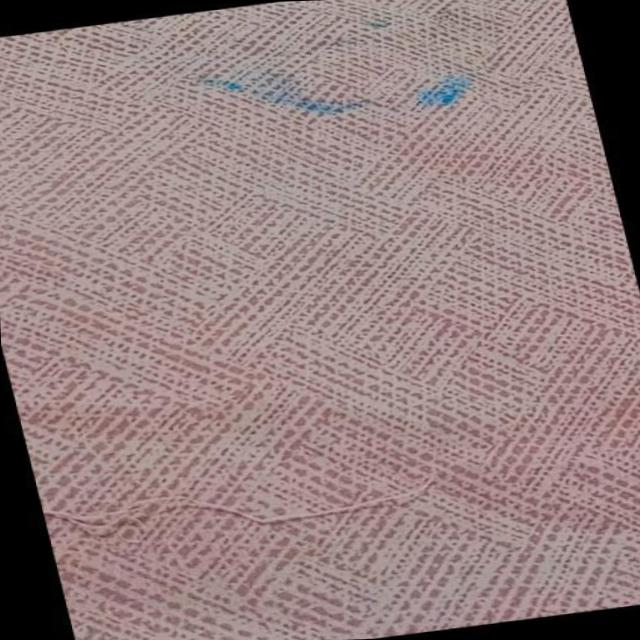stain: (173, 0, 507, 143)
